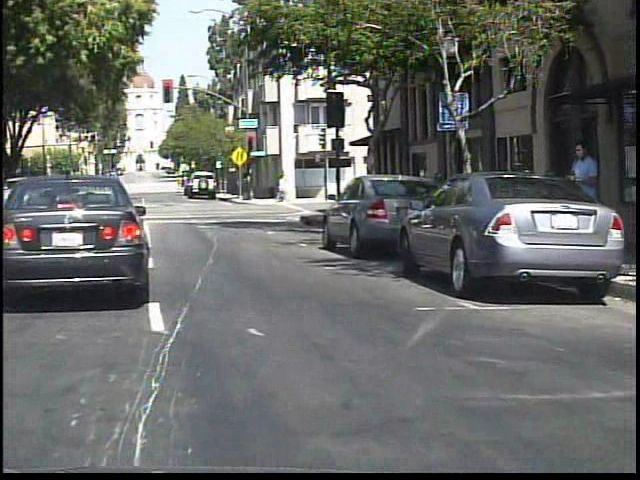person: (564, 137, 603, 260), (16, 173, 36, 209), (2, 175, 19, 211)
